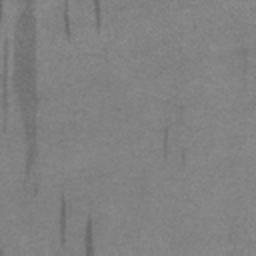Red iron sheet: (15, 0, 37, 178), (2, 37, 8, 131), (85, 218, 94, 256), (60, 196, 66, 244), (64, 0, 71, 39), (93, 0, 101, 33), (163, 126, 169, 159)
